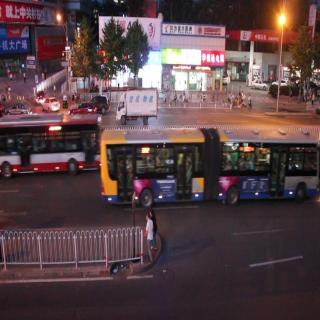BigCar: (99, 128, 319, 208), (1, 115, 101, 180), (116, 88, 158, 121)
Car: (70, 102, 97, 115), (43, 97, 60, 113), (252, 76, 267, 94)
